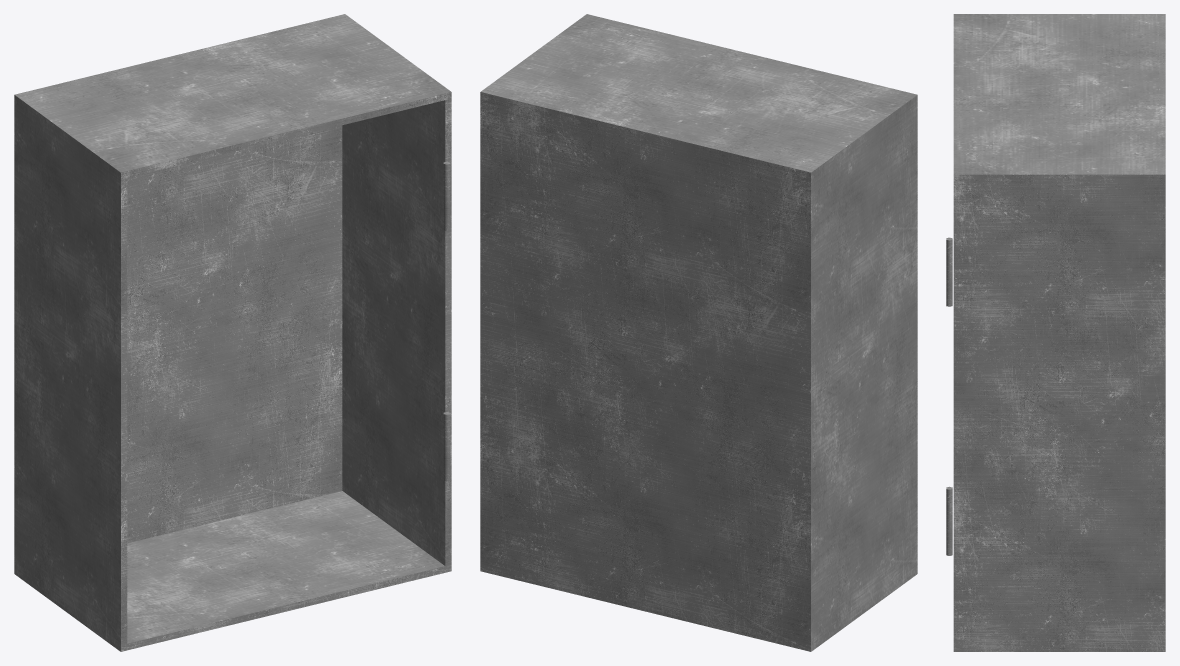
File: Box_Body.obj
3 renders of one model, left to right at view 1: azimuth 30°, elevation 25°; view 2: azimuth 150°, elevation 25°; view 3: azimuth 270°, elevation 25°, orthographic.
Visible parts, largest first — view 1: Box_Body; view 2: Box_Body; view 3: Box_Body.
Part boxes in pixels (x1=…): Box_Body: x1=14, y1=14, x2=451, y2=651; Box_Body: x1=480, y1=14, x2=917, y2=651; Box_Body: x1=946, y1=14, x2=1165, y2=651.
Size of the model in its own units: 0.52 by 0.72 by 0.3002.
1 material, 1 textured.
